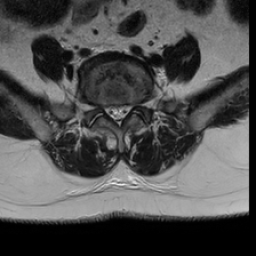CCS_normal: (113, 98, 123, 129)
LFS_severe_stenosis: (132, 97, 140, 117)
LLS_normal: (122, 99, 131, 118)
RFS_severe_stenosis: (97, 98, 105, 118)
RLS_stenosis: (103, 99, 113, 120)
